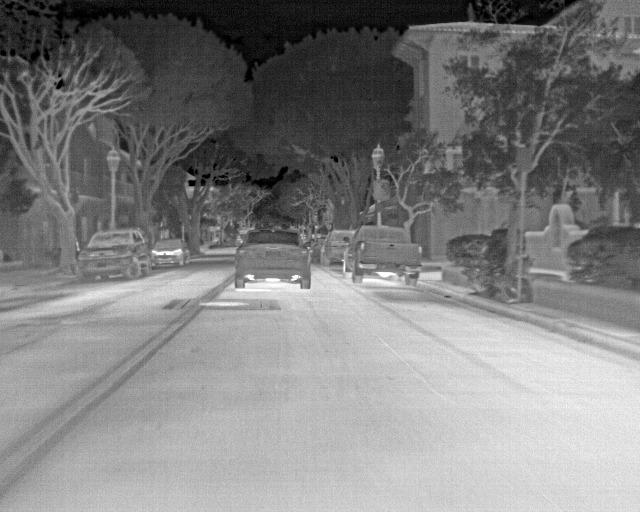car: (233, 228, 312, 290), (342, 225, 422, 286), (75, 228, 151, 283), (321, 229, 356, 267), (149, 238, 190, 268), (307, 238, 325, 262), (235, 233, 247, 247)
light: (314, 215, 318, 222)
sign: (517, 147, 531, 168), (375, 203, 382, 212)
